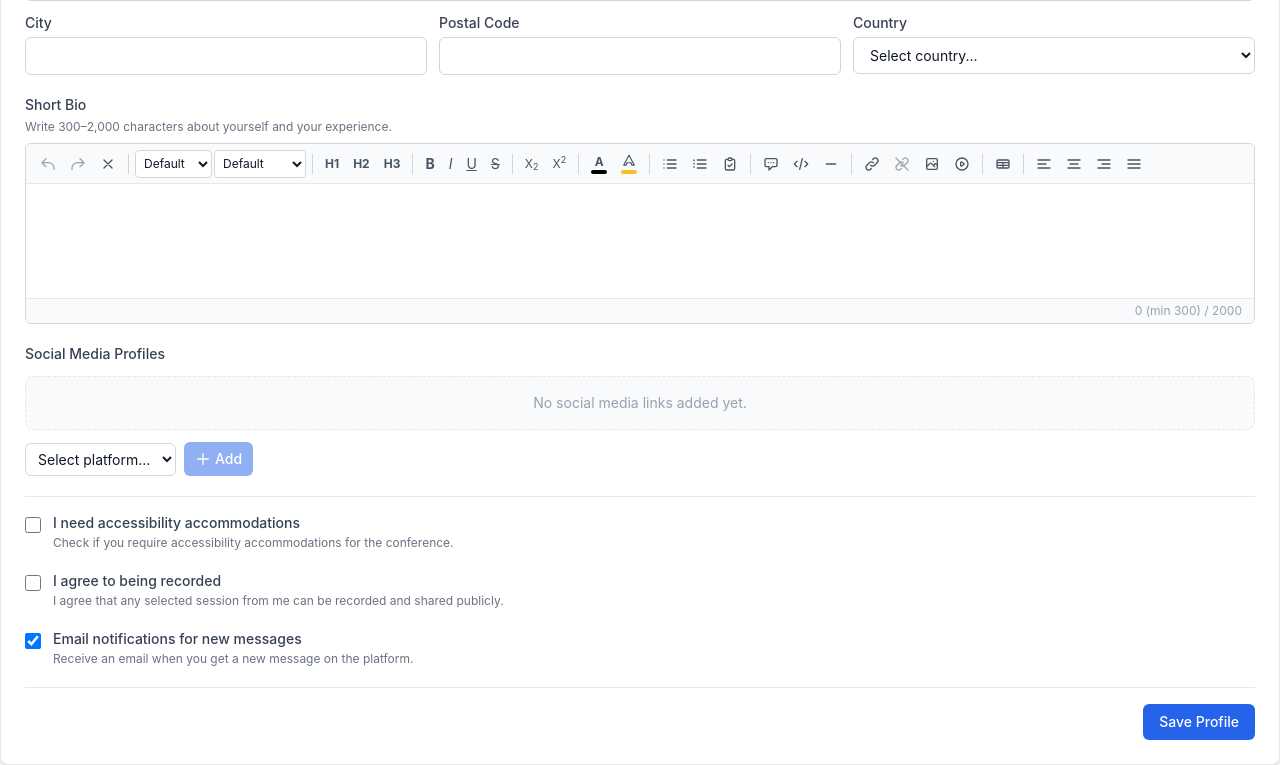
Scenario: ProfilePage › personal info tab (default) › reveals the accessibility details textarea when checkbox is checked
(page scrolled)
Click the checkbox labelled "I need accessibility accommodations".
click(33, 525)  # box x1=25 y1=517 x2=41 y2=533
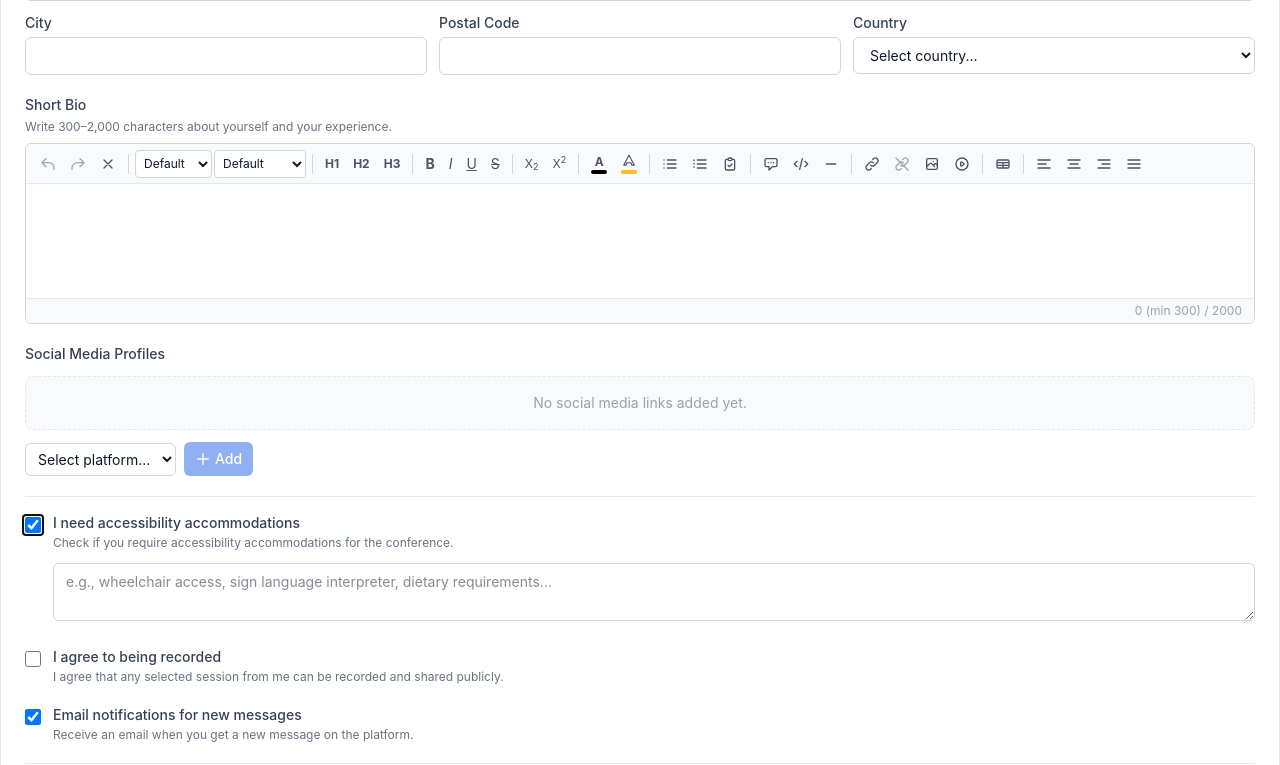
Expected: the text box with placeholder "wheelchair access" is shown, x1=53 y1=563 x2=1255 y2=621
